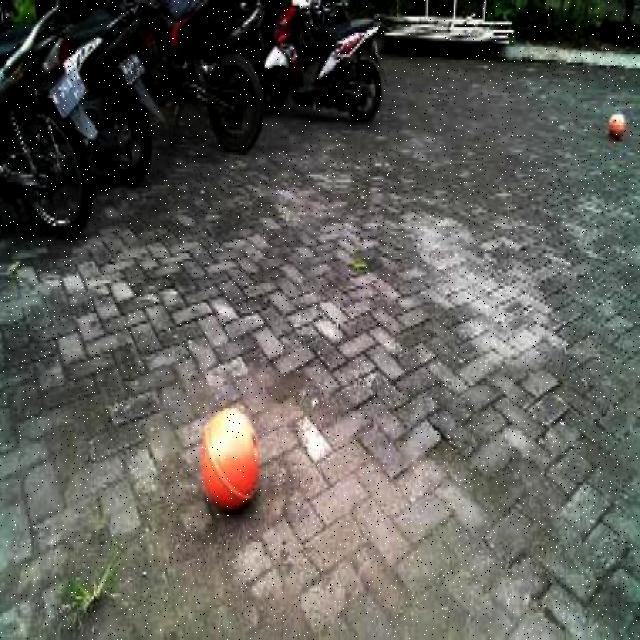buoy: (193, 399, 264, 524), (604, 105, 626, 140)
